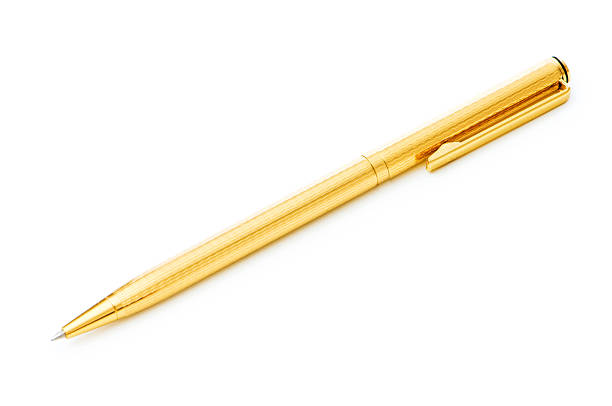pen: (48, 45, 585, 350)
